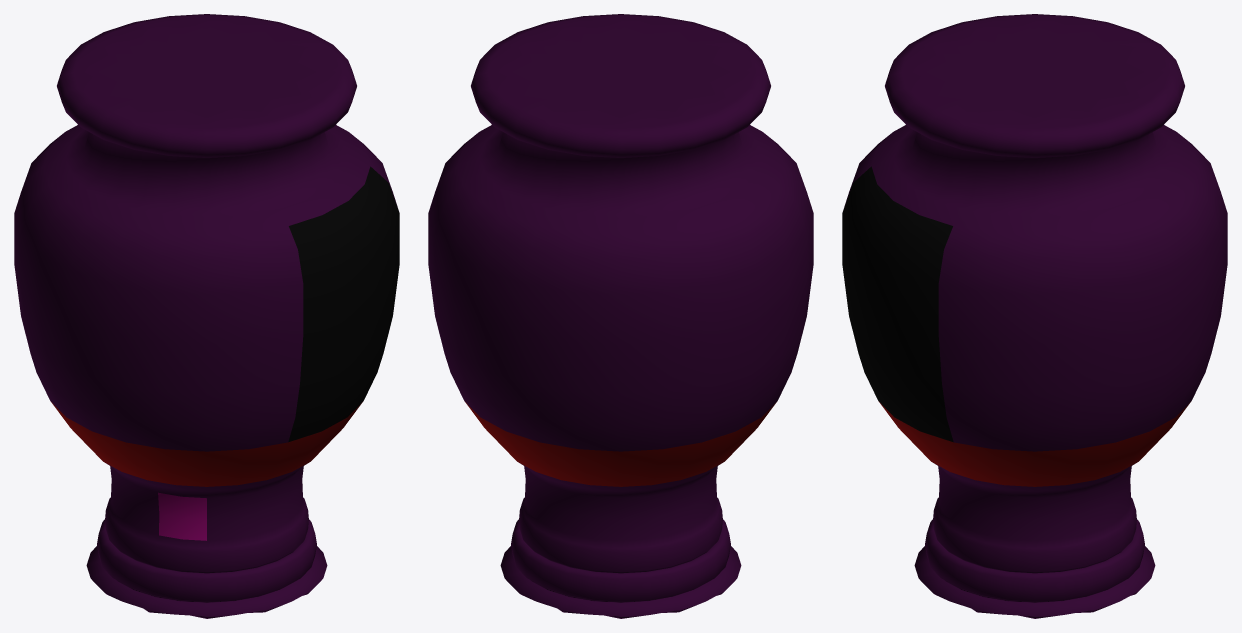
The model's file is vase_B.fbx.
3 renders of one model, left to right at view 1: azimuth 30°, elevation 25°; view 2: azimuth 150°, elevation 25°; view 3: azimuth 270°, elevation 25°, orthographic.
Parts seen in each view (by area): view 1: pCube33; view 2: pCube33; view 3: pCube33.
Boxes of the visible parts, x1,y1,x2,y2 form: pCube33: (14,14,399,618); pCube33: (428,14,813,618); pCube33: (842,14,1227,618).
Size of the model in its own units: 1.6 by 2.3 by 1.6.
